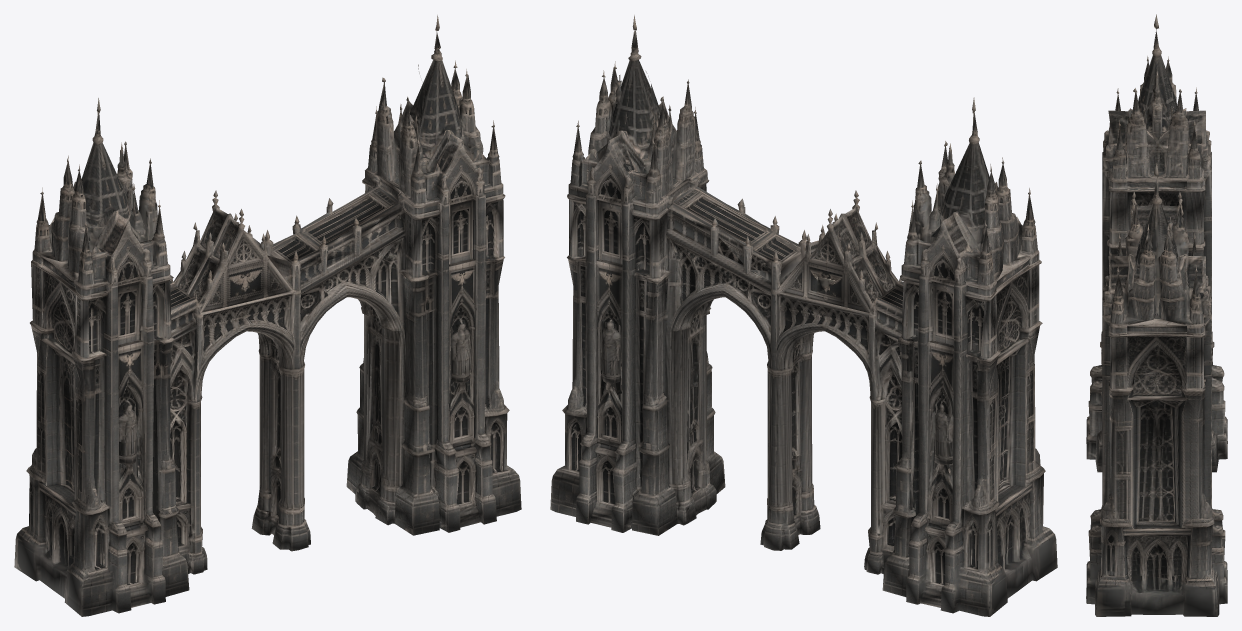
File: Meshy_AI_Processional_Arch_Low_1029234149_texture.glb
3 views of the same model, side by side, from view 1: azimuth 30°, elevation 25°; view 2: azimuth 150°, elevation 25°; view 3: azimuth 270°, elevation 25° (orthographic). The views are drawn at different scales.
Bounding box in the file's own units: 0.9077 × 0.9546 × 0.2832.
Materials: 1 (1 with a texture image).
